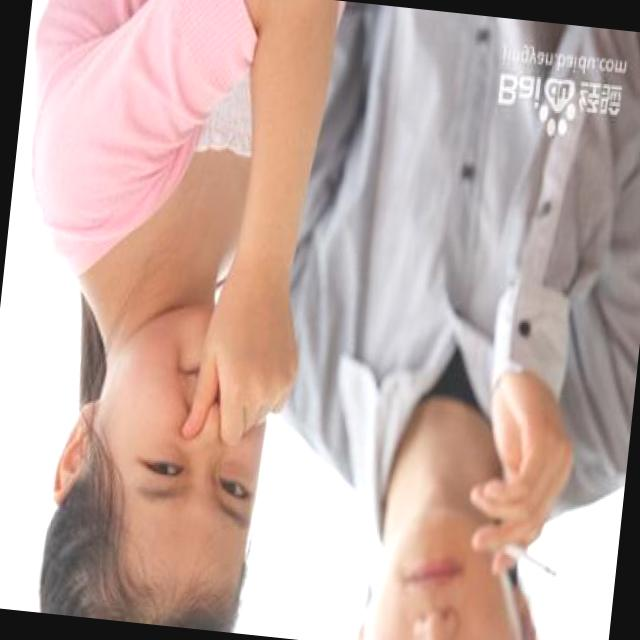smoke: (484, 502, 574, 593)
